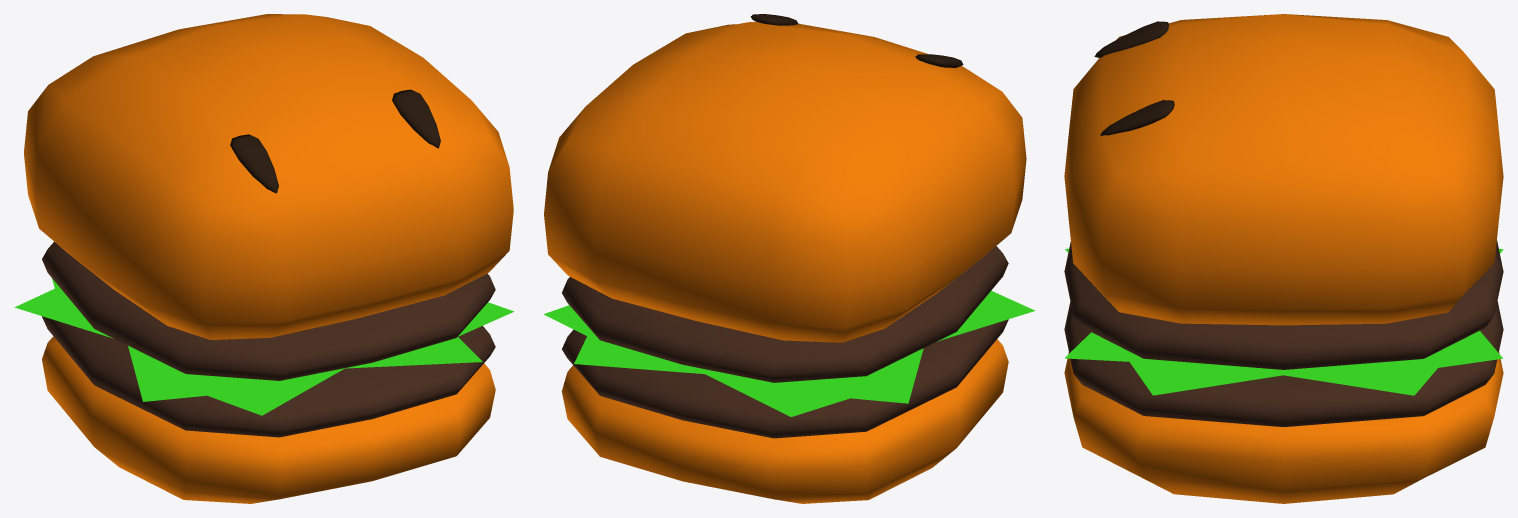
Rendered from burger.fbx.
3 views of the same model, side by side, from view 1: azimuth 30°, elevation 25°; view 2: azimuth 150°, elevation 25°; view 3: azimuth 270°, elevation 25° (orthographic). The views are drawn at different scales.
Visible parts, largest first — view 1: Cube.001; view 2: Cube.001; view 3: Cube.001.
Part boxes in pixels (x1=…): Cube.001: x1=14, y1=14, x2=513, y2=503; Cube.001: x1=543, y1=14, x2=1035, y2=503; Cube.001: x1=1064, y1=14, x2=1503, y2=503.
Size of the model in its own units: 0.00345 by 0.00345 by 0.00345.
